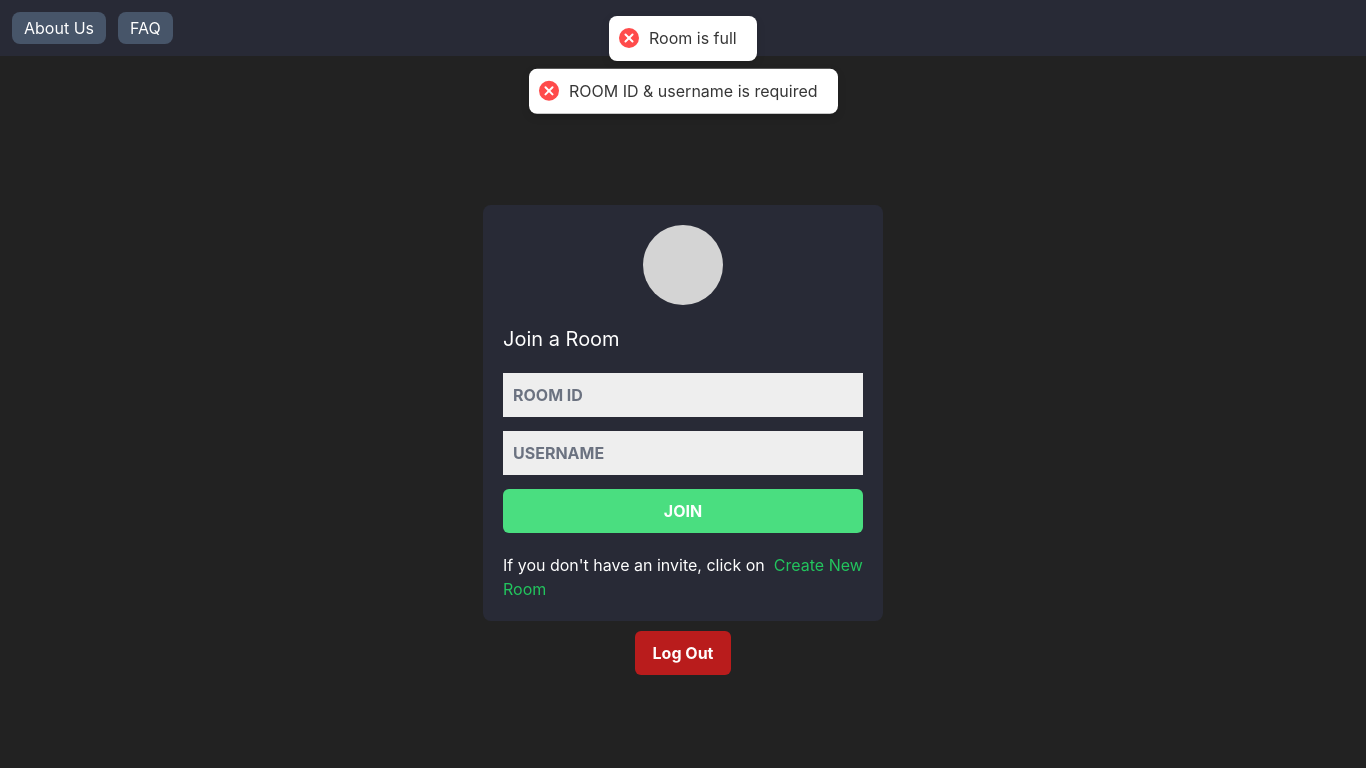
Test case: RoomJoin › displays error message if error joining room
The width and height of the screenshot is (1366, 768).
# Fill input fields and click join button
In the field with placeholder "ROOM ID": (683, 395) [503,373,863,417], type "exampleRoomId"
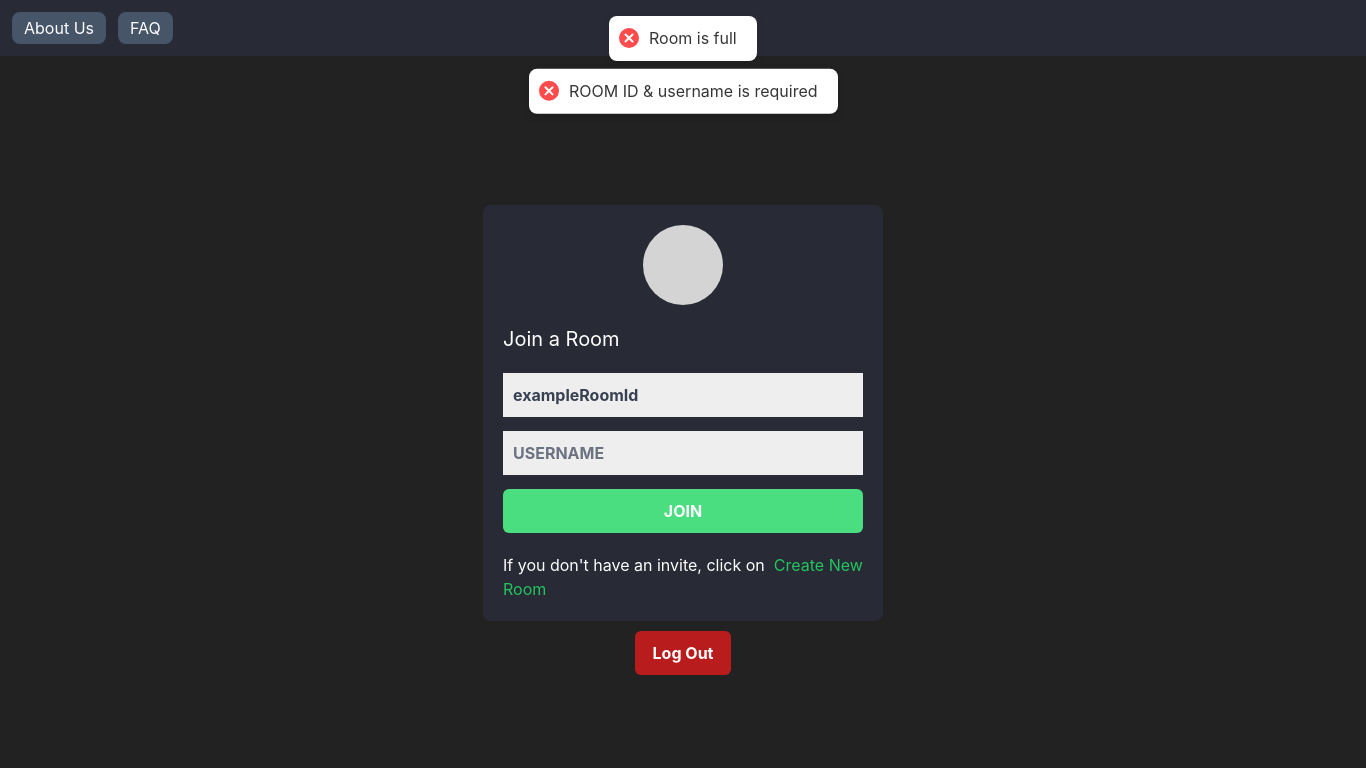
In the field with placeholder "USERNAME": (683, 453) [503,431,863,475], type "exampleUsername"
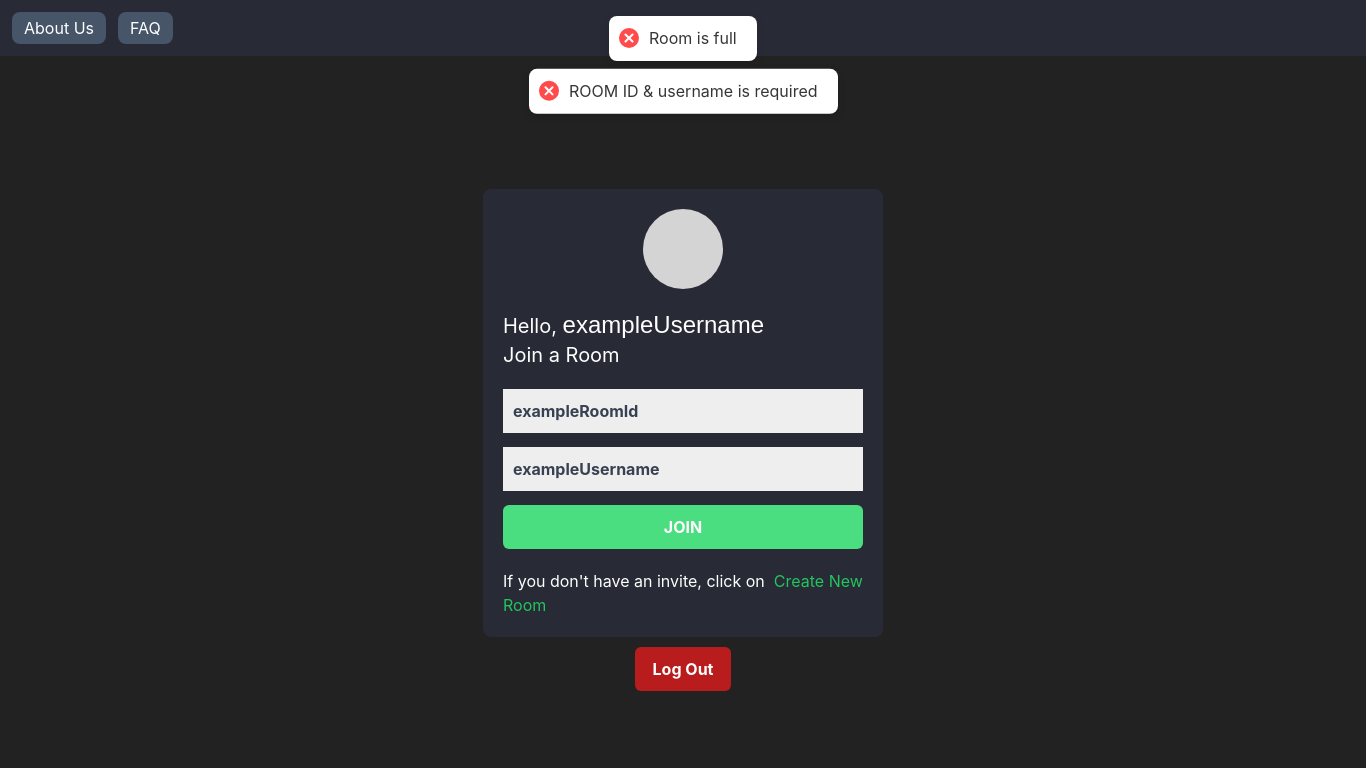
Click the button "JOIN": (683, 527) [503,505,863,549]
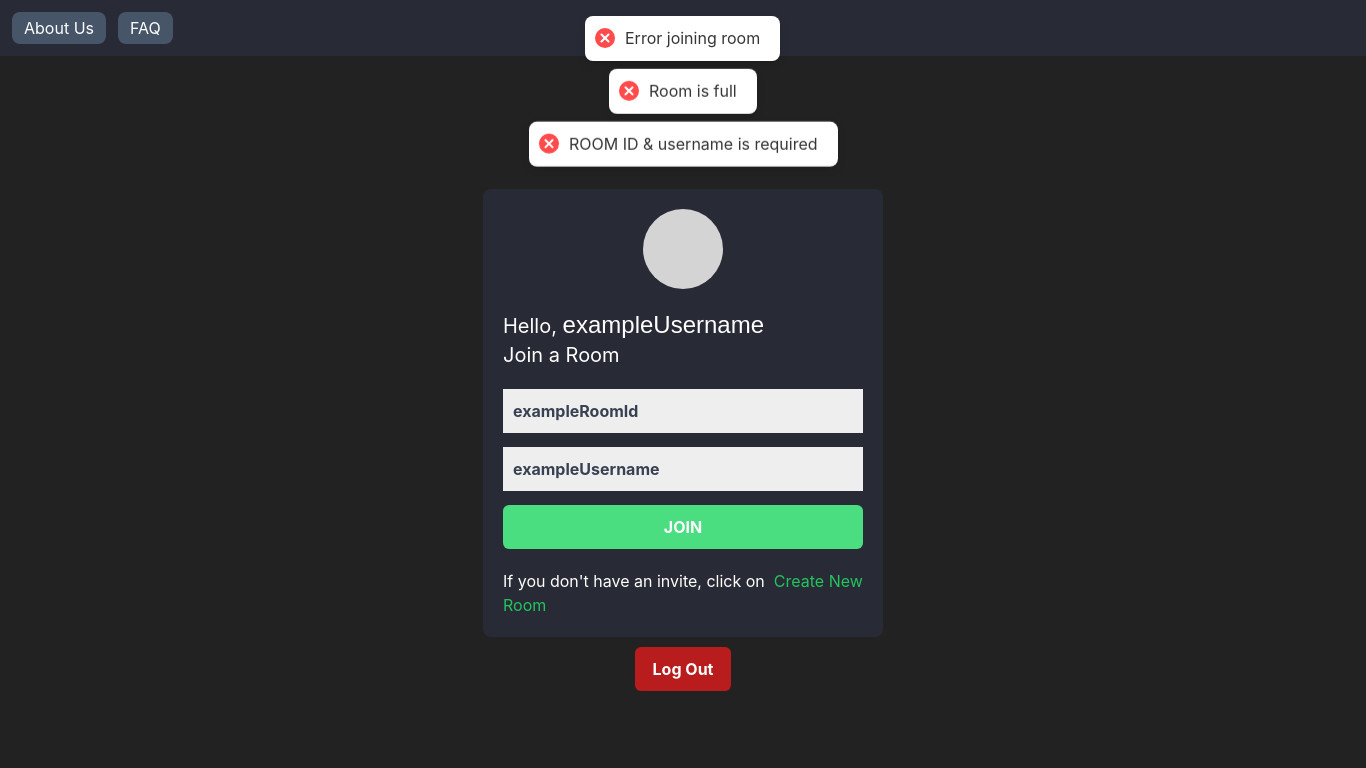
Expected: the text "Error joining room" is shown, [625,28,761,49]
